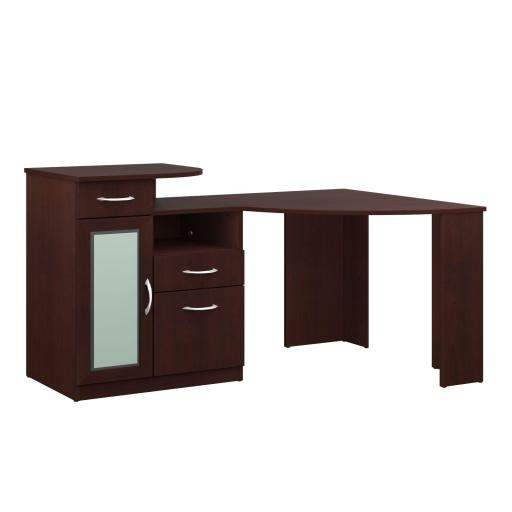desk: (24, 163, 487, 402)
